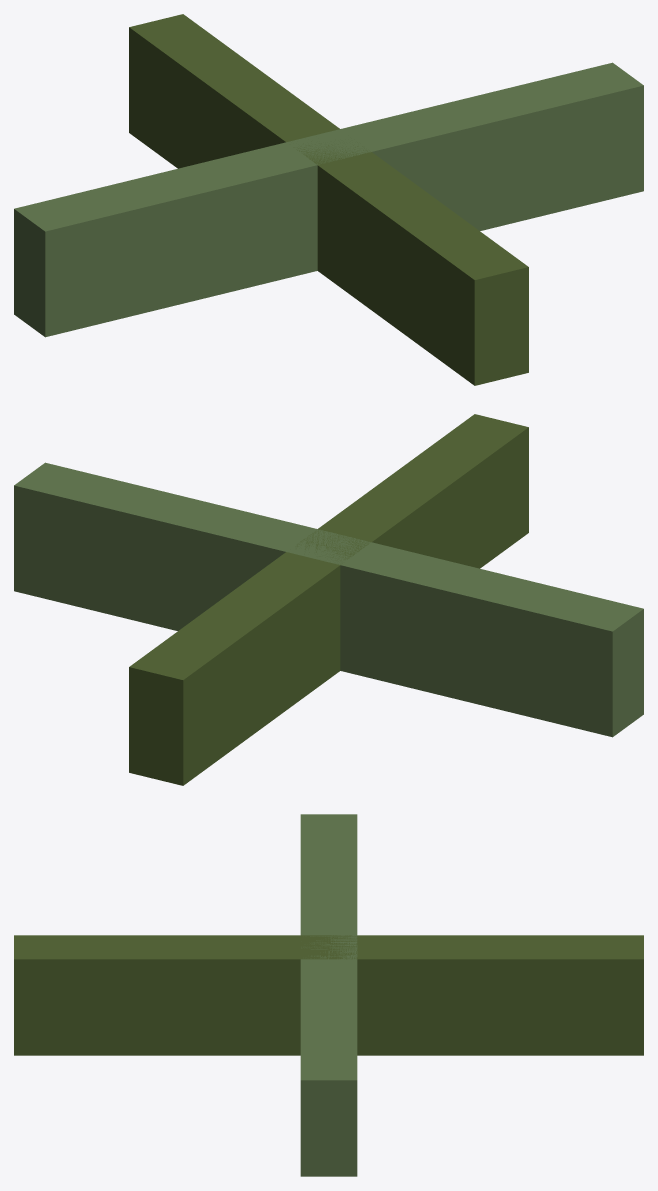
File: maze.fbx
The picture shows the model from 3 angles, top to bottom: view 1: azimuth 30°, elevation 25°; view 2: azimuth 150°, elevation 25°; view 3: azimuth 270°, elevation 25°; orthographic projection. The views are drawn at different scales.
Visible parts, largest first — view 1: Cube, Cube.001; view 2: Cube, Cube.001; view 3: Cube.001, Cube.
Part boxes in pixels (<box>): Cube: <box>14,62,643,337</box>; Cube.001: <box>129,14,528,385</box>; Cube: <box>14,462,643,737</box>; Cube.001: <box>129,414,528,785</box>; Cube.001: <box>14,935,643,1055</box>; Cube: <box>300,814,357,1176</box>.
Bounding box in the file's own units: 1185 × 200 × 1185.
